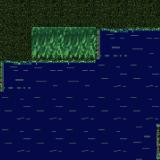Interaction: (17, 51, 108, 75), (110, 19, 160, 39), (0, 52, 16, 100), (91, 18, 110, 51)
Slow: (3, 64, 102, 160), (100, 33, 160, 160), (32, 26, 96, 59)
